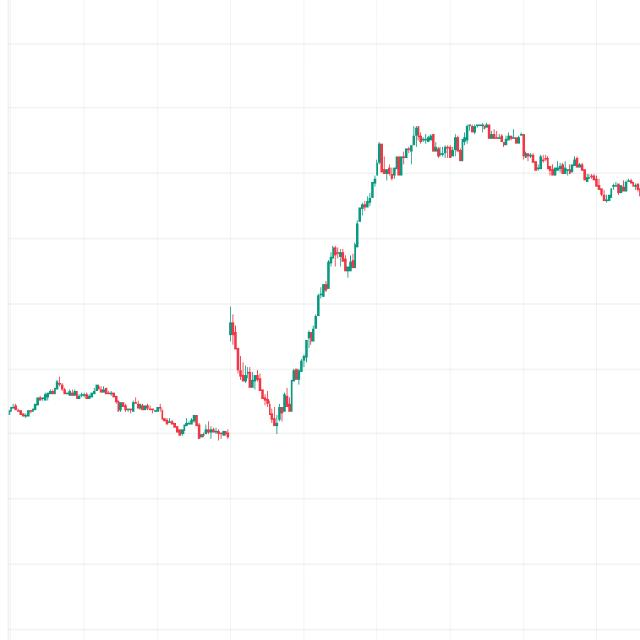Rising-Wedge: (209, 103, 422, 461)
